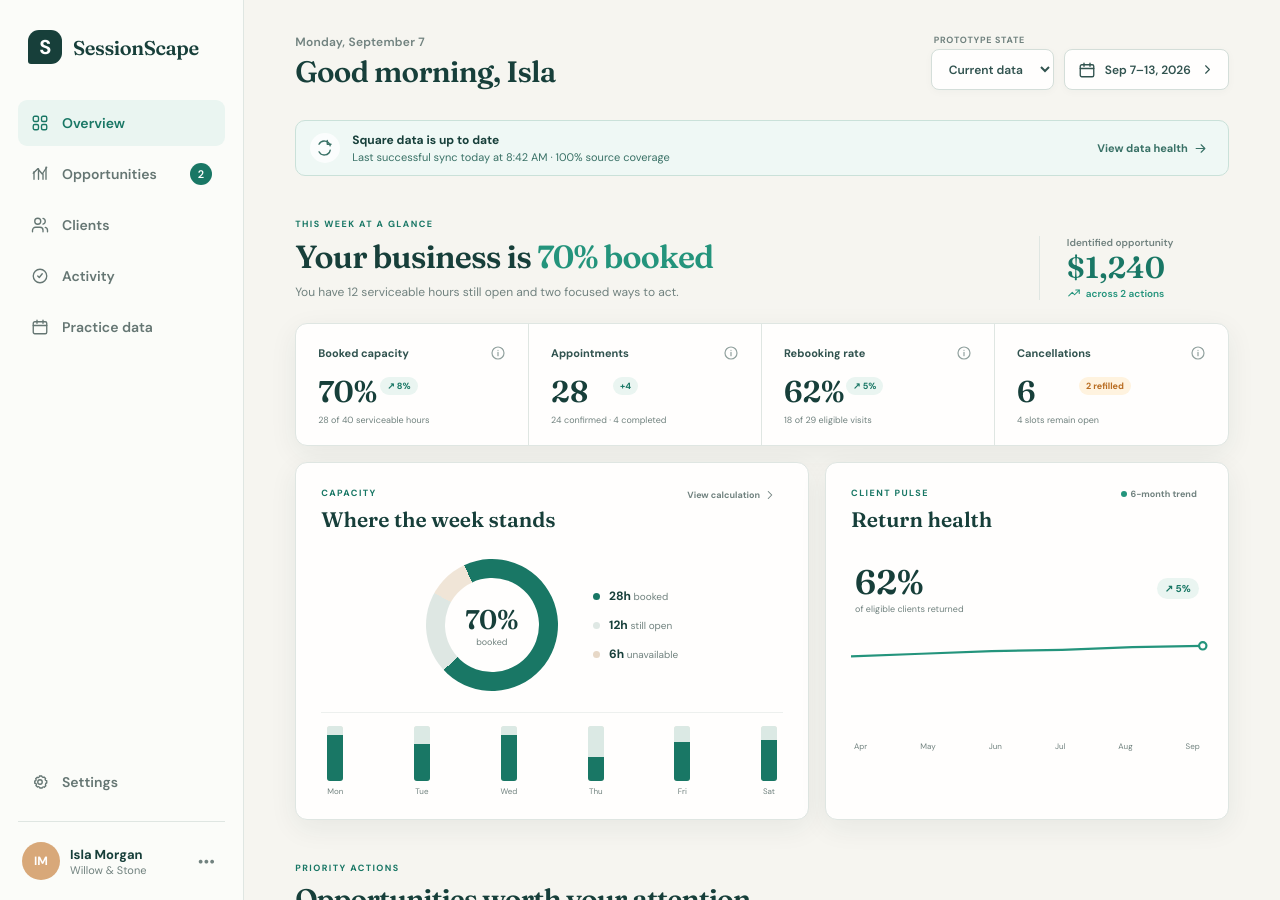
Test: returns focus when either drawer backdrop is clicked
The image size is (1280, 900).
Click the button "Booked capacity 70% ↗ 8% 28 of 40 serviceable hours". click: (413, 384)
box: [296, 324, 529, 445]
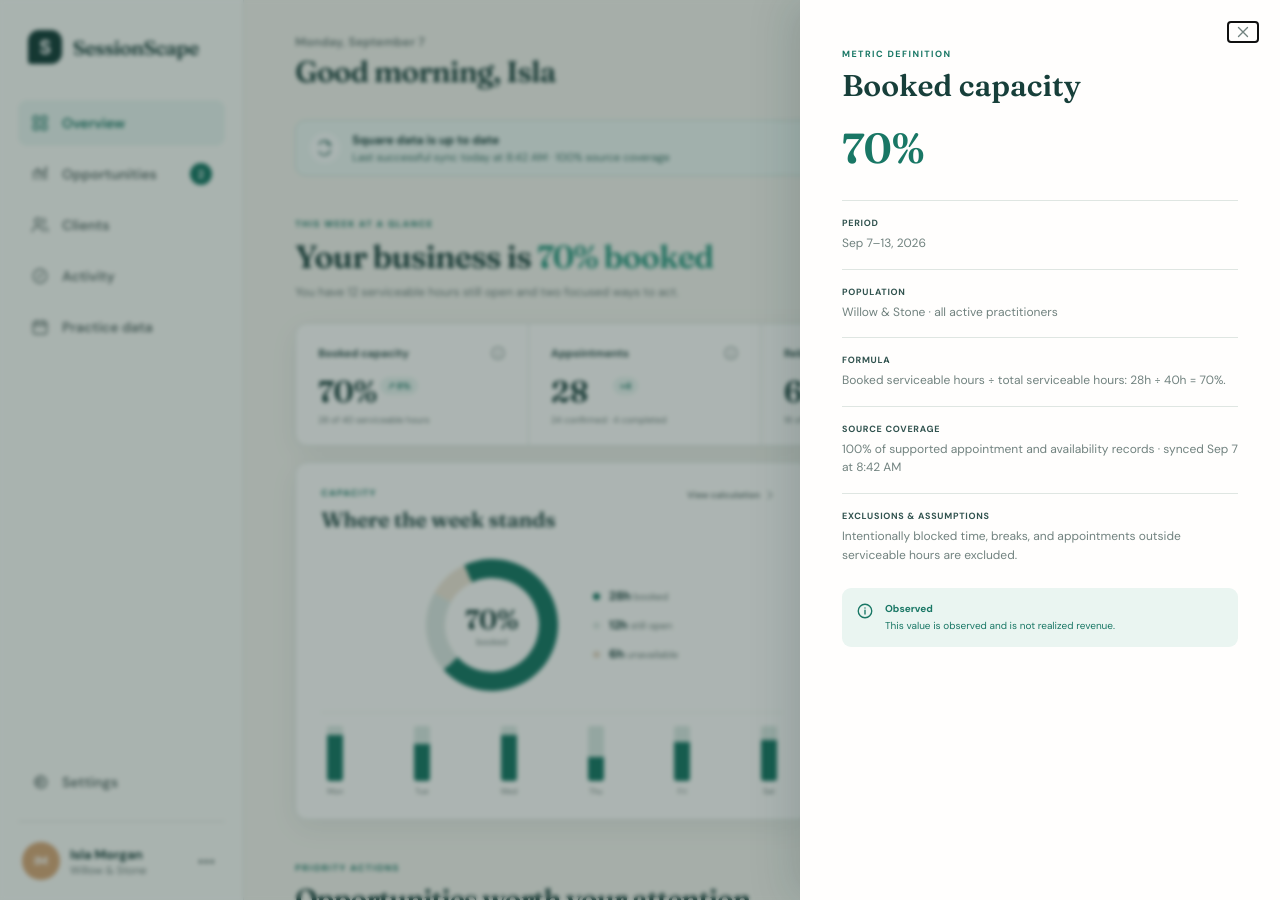
Click the element with class "modal-backdrop". click: (640, 450)
box: [0, 0, 1279, 899]
(page scrolled)
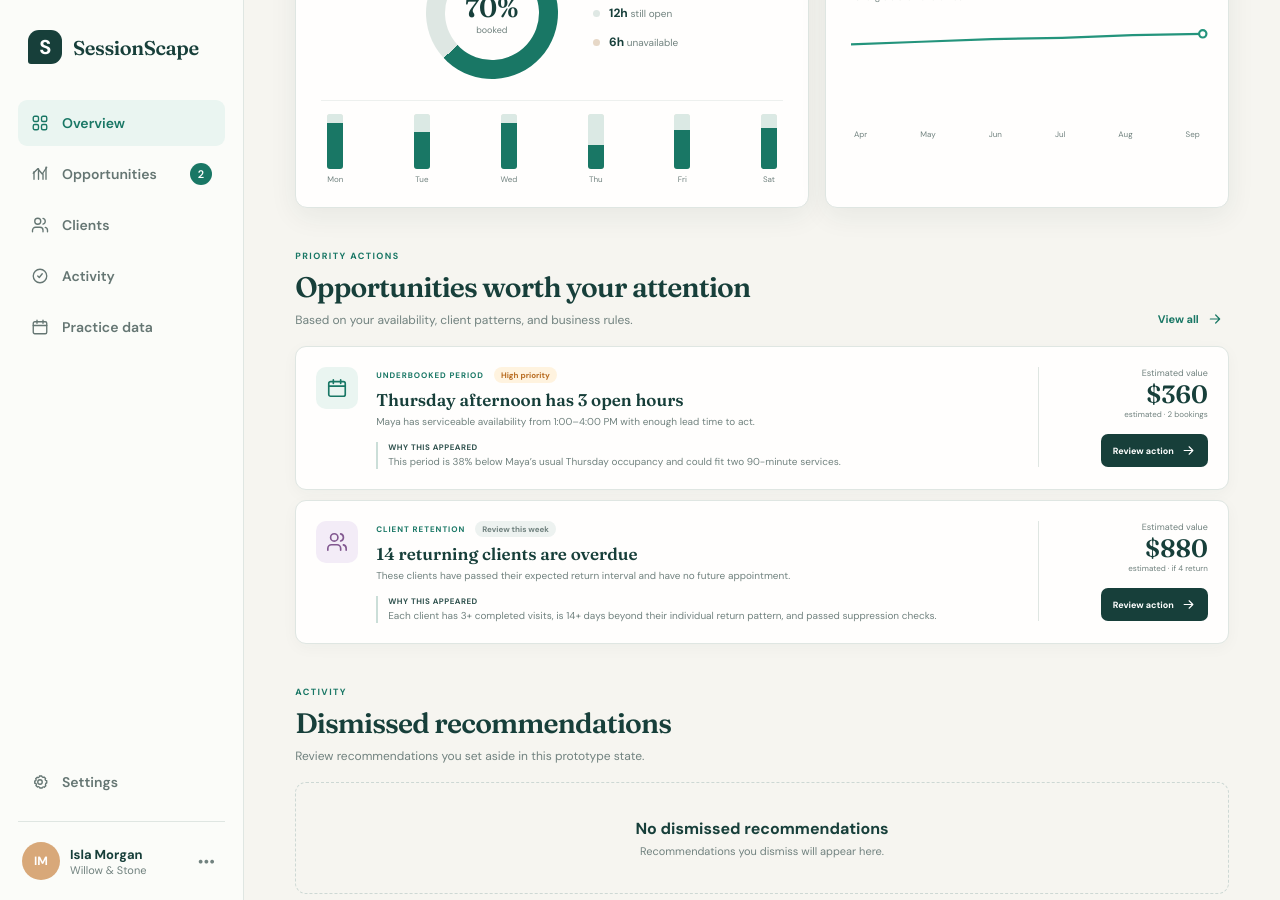
Check: the dialog is gone
Click the button "Review action" below "estimated · 2 bookings". click: (1154, 450)
box: [1101, 434, 1208, 467]
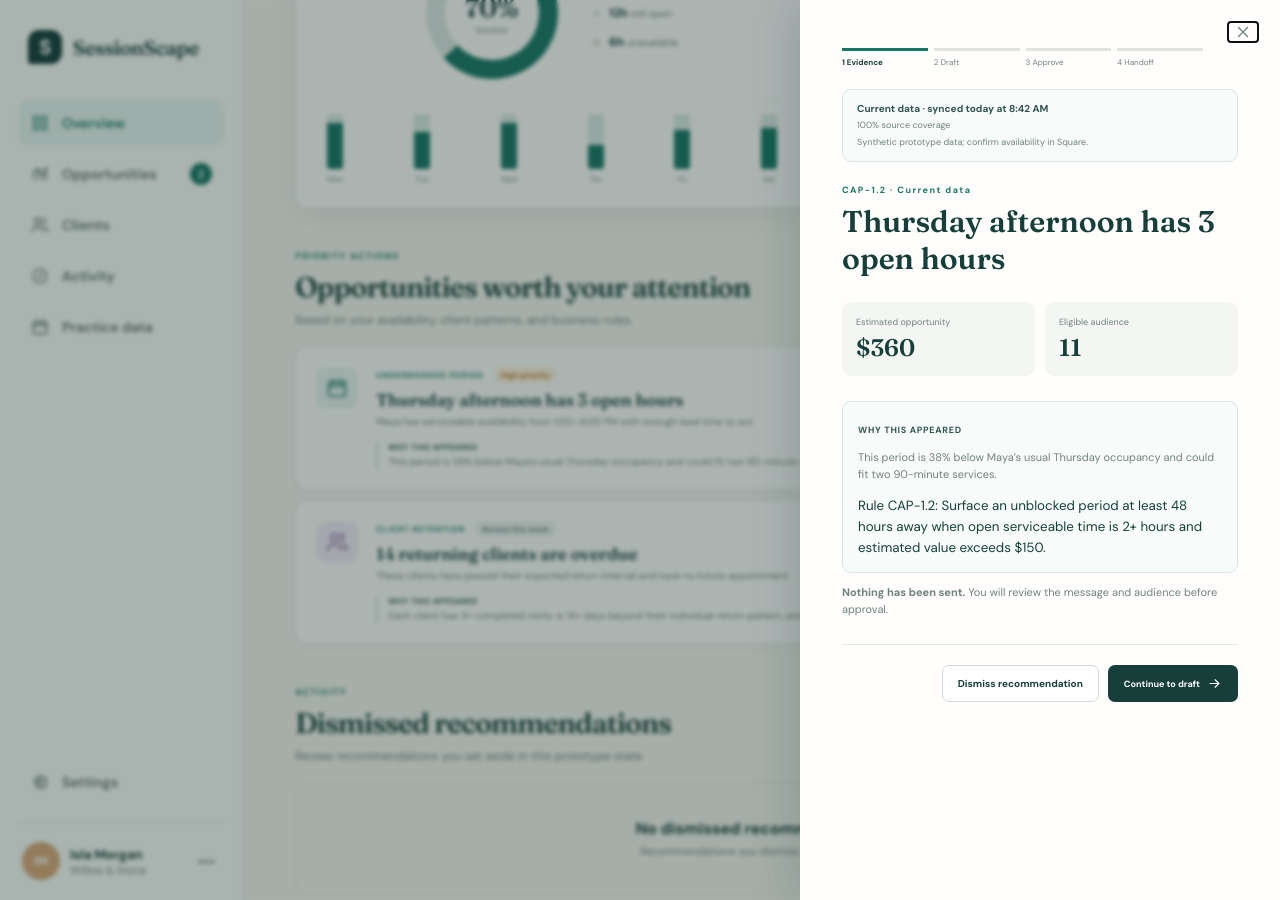
Click the element with class "modal-backdrop". click: (640, 450)
box: [0, 0, 1279, 899]
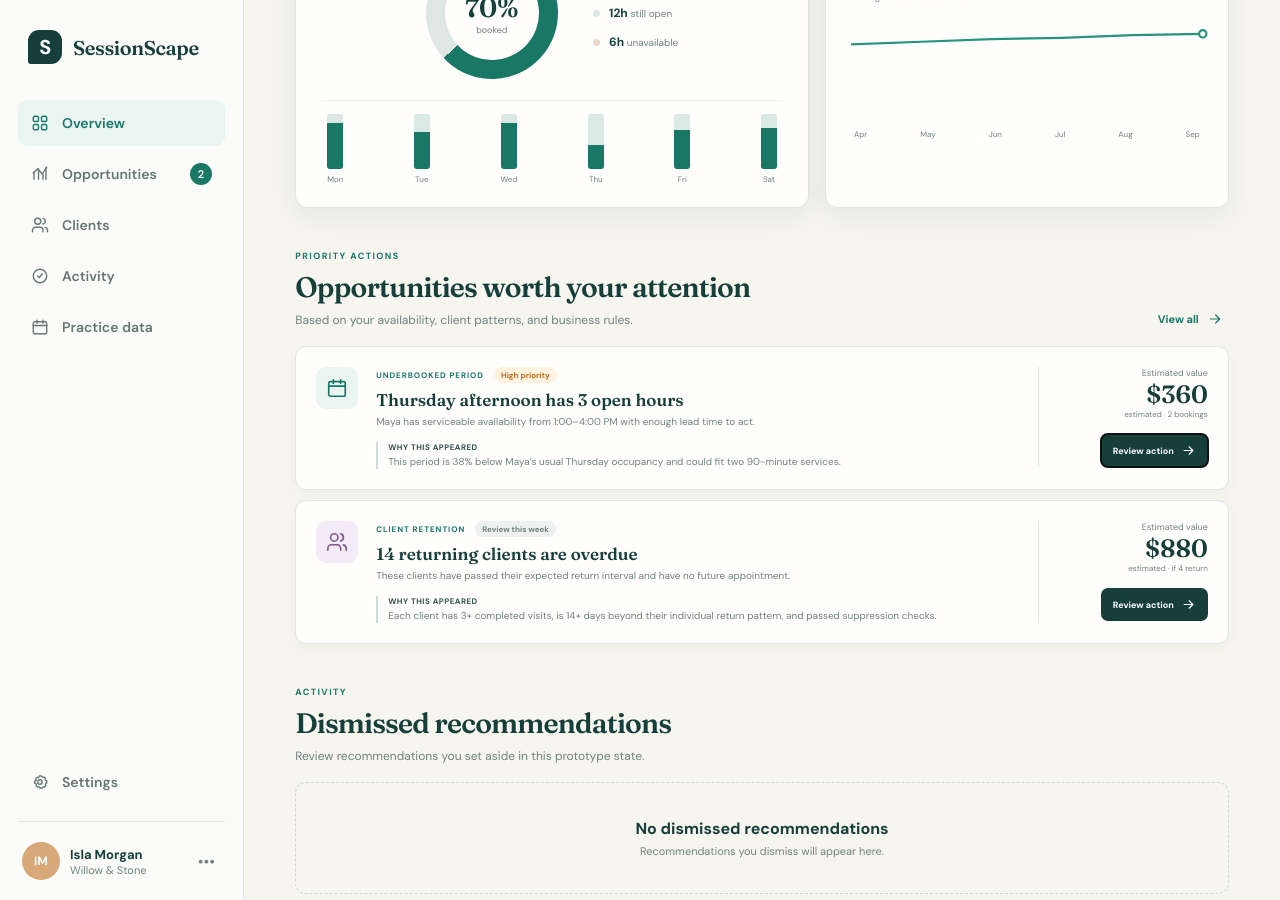
Check: the dialog is gone
